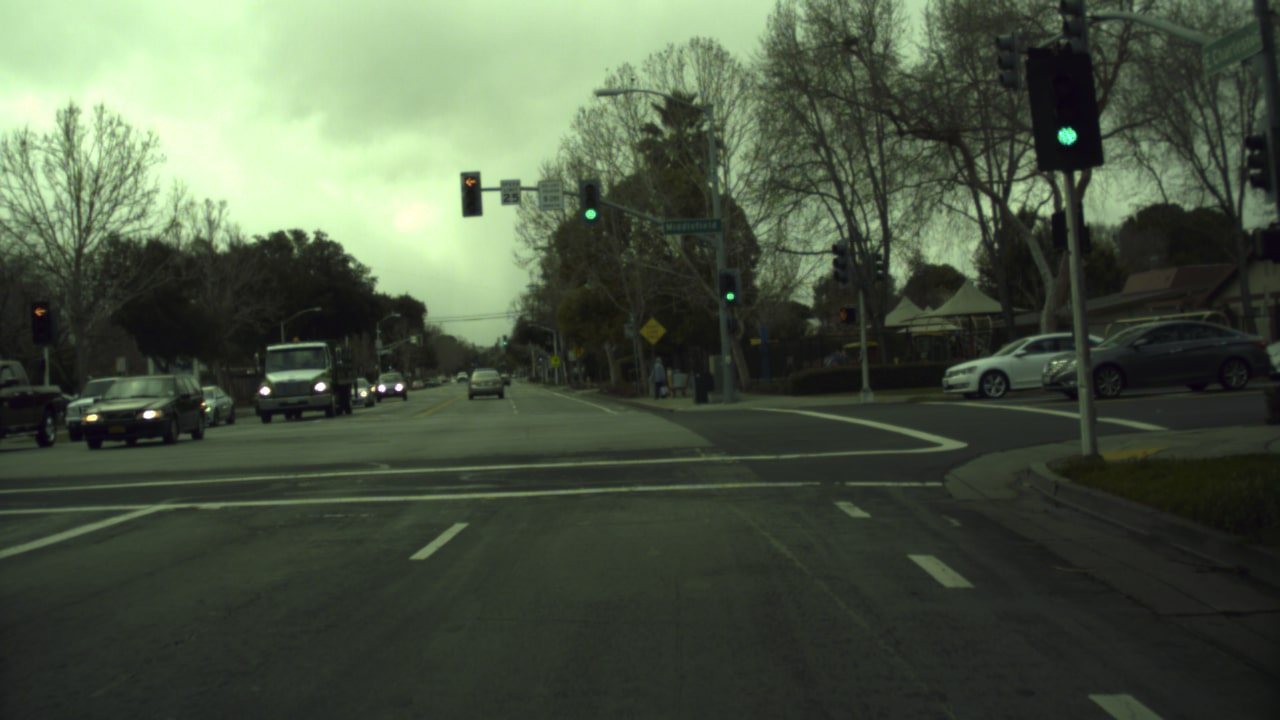signal: (1044, 55, 1096, 160), (460, 169, 482, 213), (27, 303, 50, 345), (581, 180, 600, 223)
